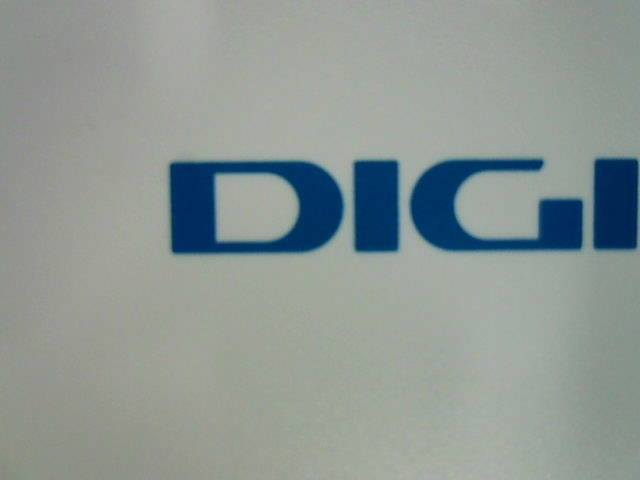BL_DIGI: (142, 139, 638, 259)
